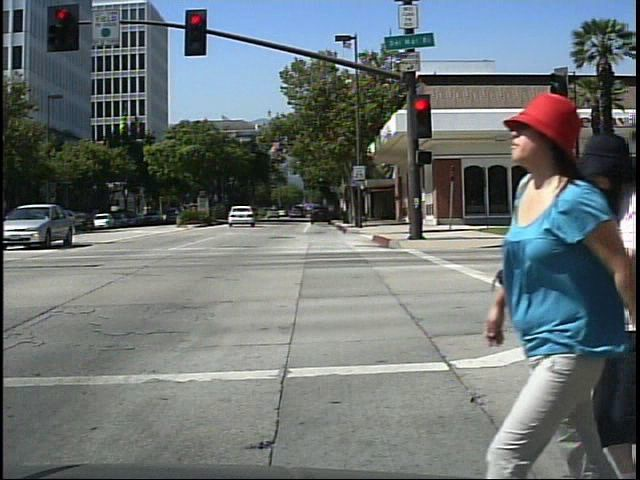person: (488, 81, 637, 480)
